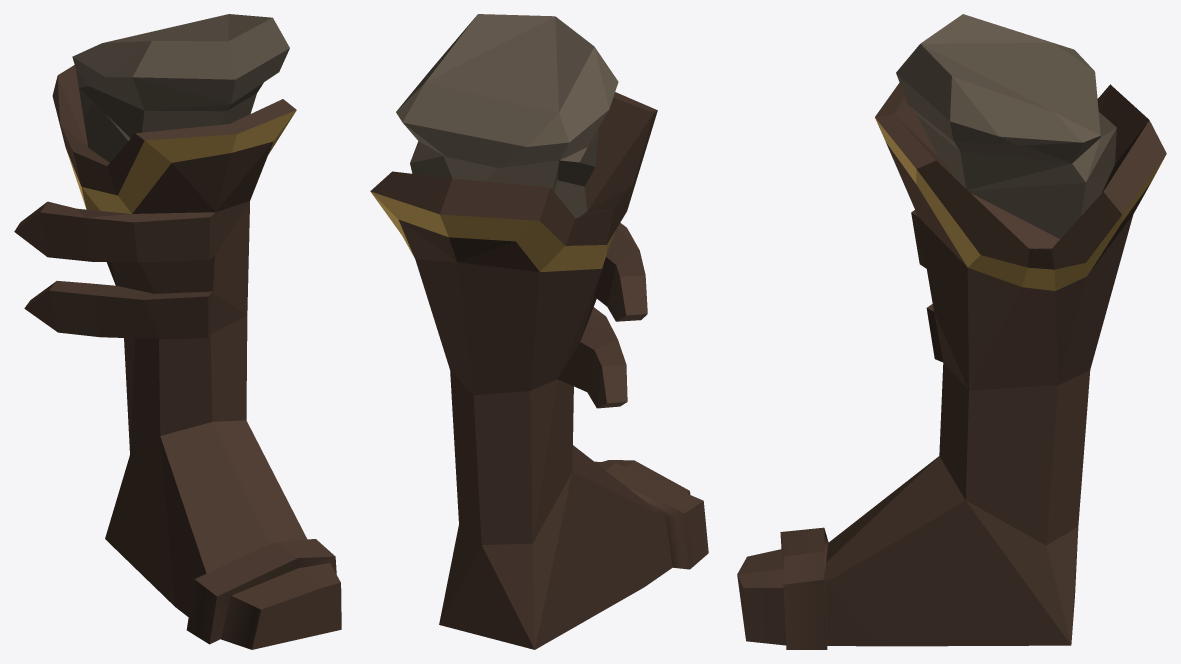
The model's file is Chr_LegRight_Female_04_Static.fbx.
3 views of the same model, side by side, from view 1: azimuth 30°, elevation 25°; view 2: azimuth 150°, elevation 25°; view 3: azimuth 270°, elevation 25° (orthographic). The views are drawn at different scales.
Visible parts, largest first — view 1: Chr_LegRight_Female_04_Static; view 2: Chr_LegRight_Female_04_Static; view 3: Chr_LegRight_Female_04_Static.
Part boxes in pixels (x1,y1,x2,y2): Chr_LegRight_Female_04_Static: [14, 14, 341, 649]; Chr_LegRight_Female_04_Static: [370, 14, 708, 649]; Chr_LegRight_Female_04_Static: [737, 14, 1166, 649].
Bounding box in the file's own units: 0.1833 × 0.4021 × 0.2697.
